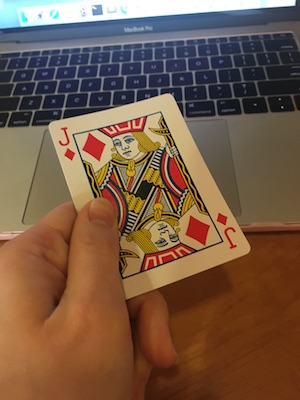JackOfDiamonds: (38, 86, 254, 319)
